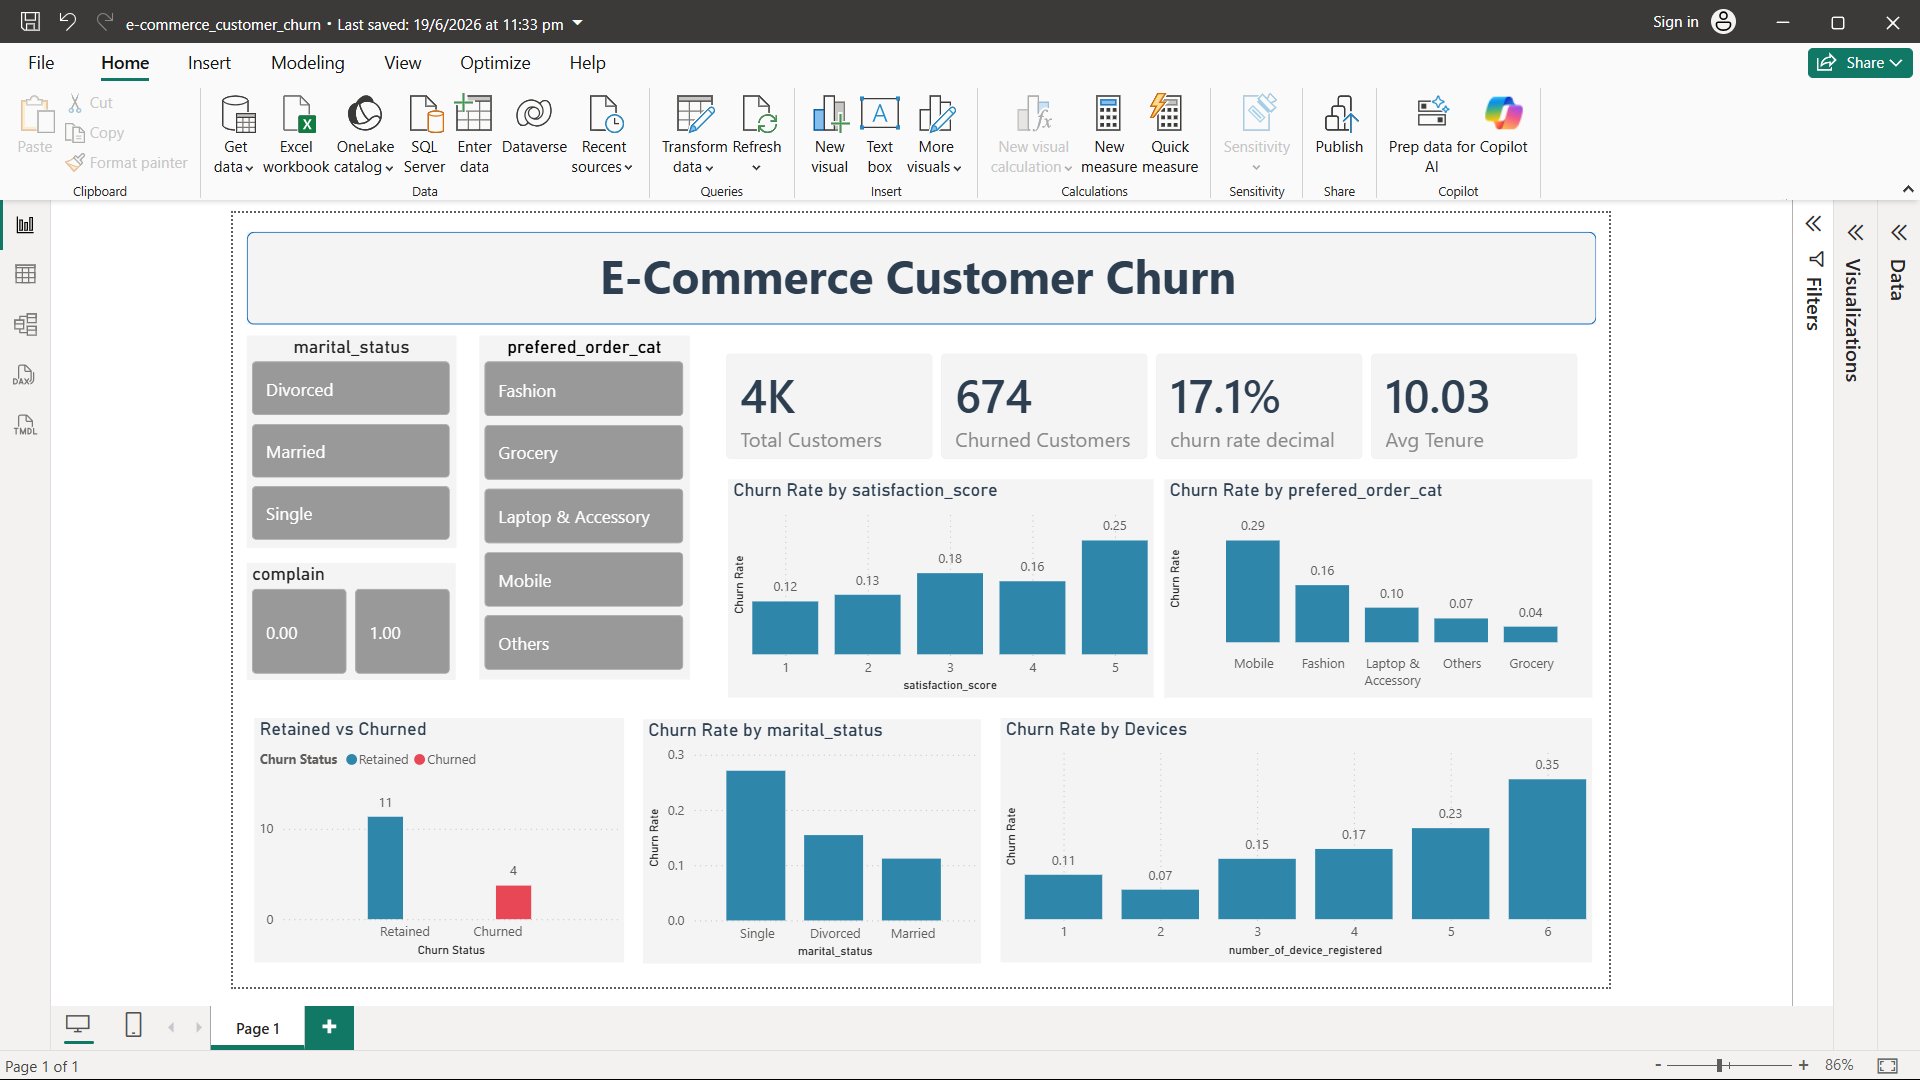

This screenshot's page, from the dashboard's own definition file:
{"tool":"powerbi","page":{"name":"Page 1","canvas":[1280,720],"ordinal":0},"visuals":[{"type":"shape","box":[12.3,17.8,1255.6,86.4],"z":2000},{"type":"textbox","box":[108.4,24.7,1058,71.4],"z":3000},{"type":"cardVisual","fields":{"Data":["public customers_clean.Total Customers","public customers_clean.Churned Customers","public customers_clean.churn rate decimal","public customers_clean.Avg Tenure"]},"box":[441.4,114.3,827.1,132.9],"z":3001},{"type":"clusteredColumnChart","fields":{"Category":["public transactions_clean.satisfaction_score"],"Y":["public customers_clean.Churn Rate"]},"box":[460,247.1,395.7,202.9],"z":3002},{"type":"clusteredColumnChart","title":"Churn Rate by marital_status","fields":{"Y":["public customers_clean.Churn Rate","public customers_clean.Churn Rate"],"Category":["public customers_clean.marital_status"]},"box":[381.4,471.4,314.3,227.1],"z":3003},{"type":"clusteredColumnChart","fields":{"Category":["public customers_clean.prefered_order_cat"],"Y":["public customers_clean.Churn Rate"]},"box":[865.7,247.1,398.6,202.9],"z":3004},{"type":"clusteredColumnChart","title":"Retained  vs Churned","fields":{"Y":["public customers_clean.Avg Tenure"],"Category":["public customers_clean.Churn Status"],"Series":["public customers_clean.Churn Status"]},"box":[20,470,344.3,227.1],"z":3005},{"type":"clusteredColumnChart","title":"Churn Rate by Devices","fields":{"Category":["public customers_clean.number_of_device_registered"],"Y":["public customers_clean.Churn Rate"]},"box":[714.3,470,550,227.1],"z":3006},{"type":"advancedSlicerVisual","fields":{"Values":["public customers_clean.marital_status"]},"box":[12.3,113.9,194.9,197.6],"z":3007},{"type":"advancedSlicerVisual","fields":{"Values":["public customers_clean.prefered_order_cat"]},"box":[228.6,114.3,195.7,320],"z":3008},{"type":"advancedSlicerVisual","fields":{"Values":["public transactions_clean.complain"]},"box":[12.9,325.7,194.3,108.6],"z":3009}]}

Visuals, with their boxes on the page's 1280x720 design canvas (x1, y1, x2, y2). These are canvas units, not pixel positions in the 1920x1080 screenshot, which may show the page scaled, cropped or inside an application window:
shape: 12/18/1268/104
textbox: 108/25/1166/96
cardVisual - public customers_clean.Total Customers x public customers_clean.Churned Customers: 441/114/1268/247
clusteredColumnChart - public transactions_clean.satisfaction_score x public customers_clean.Churn Rate: 460/247/856/450
"Churn Rate by marital_status" clusteredColumnChart: 381/471/696/698
clusteredColumnChart - public customers_clean.prefered_order_cat x public customers_clean.Churn Rate: 866/247/1264/450
"Retained  vs Churned" clusteredColumnChart: 20/470/364/697
"Churn Rate by Devices" clusteredColumnChart: 714/470/1264/697
advancedSlicerVisual - public customers_clean.marital_status: 12/114/207/312
advancedSlicerVisual - public customers_clean.prefered_order_cat: 229/114/424/434
advancedSlicerVisual - public transactions_clean.complain: 13/326/207/434
